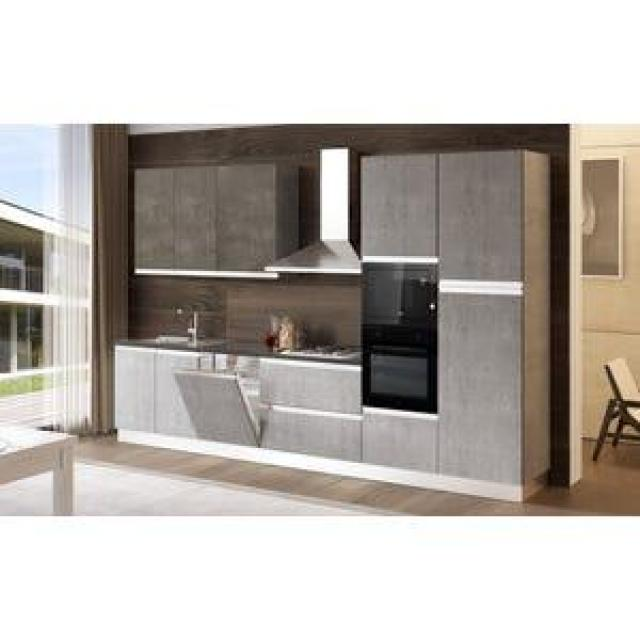dishwasher: (170, 350, 266, 454)
